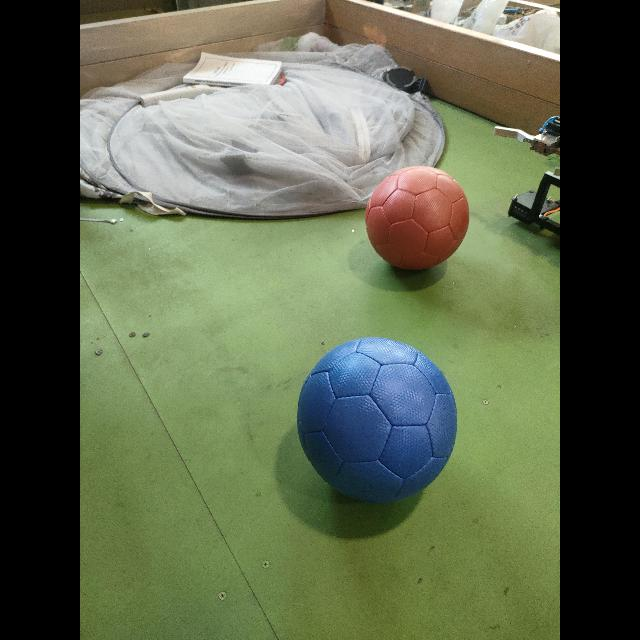B: (298, 338, 456, 502)
R: (366, 166, 469, 270)
